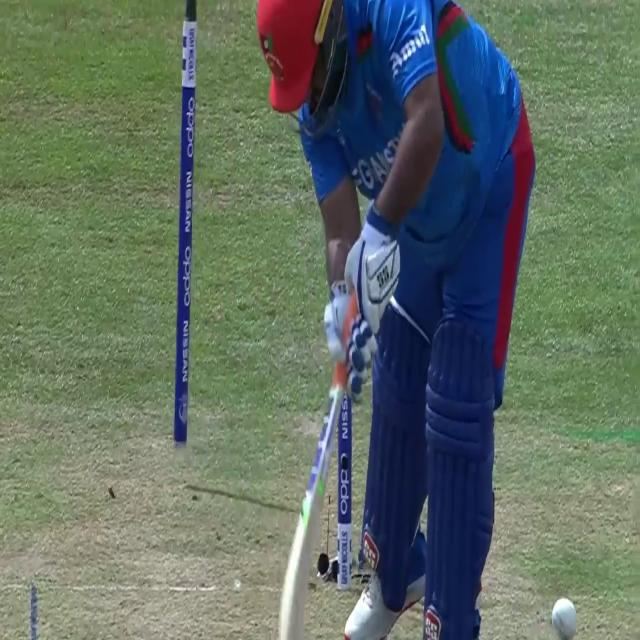ball: (550, 596, 578, 638)
